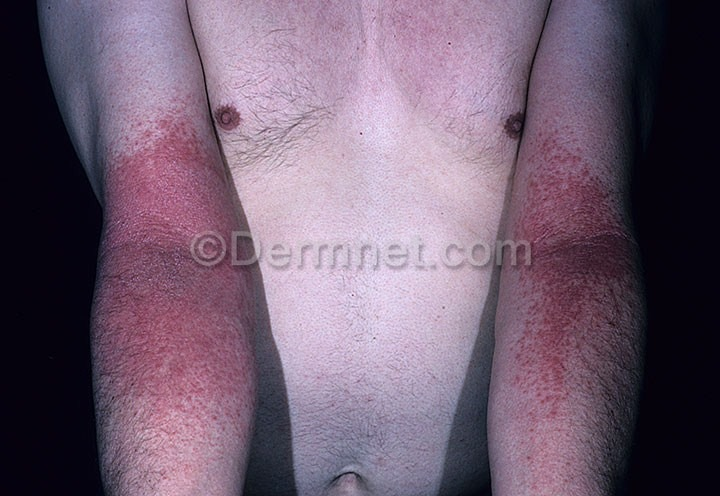Eczema: (87, 122, 251, 466), (514, 123, 638, 458), (310, 1, 466, 116)
